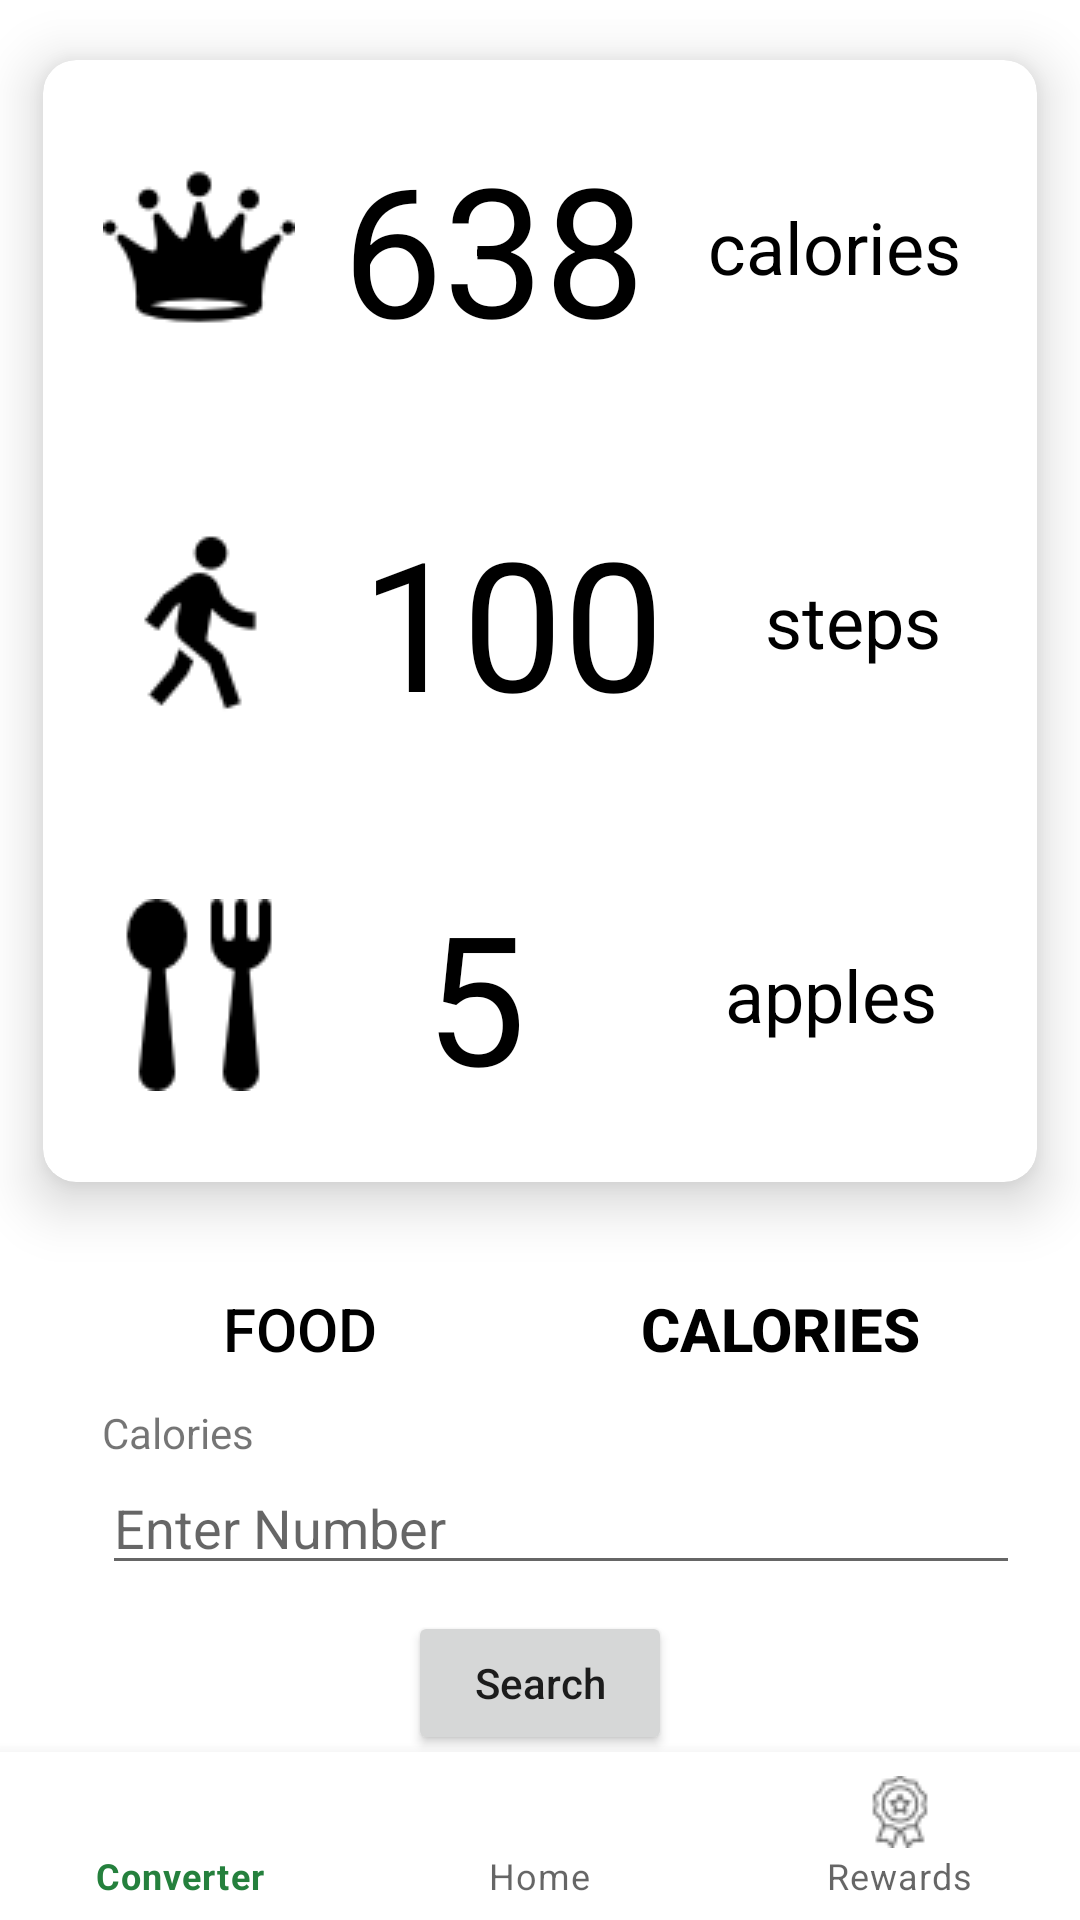

Named icons in this screenshot (1080px×1920px) and their bounding boxes, (x1, y1, x2, y2):
crown: (103, 171, 295, 323)
cutlery: (126, 899, 272, 1091)
walking: (144, 536, 257, 709)
